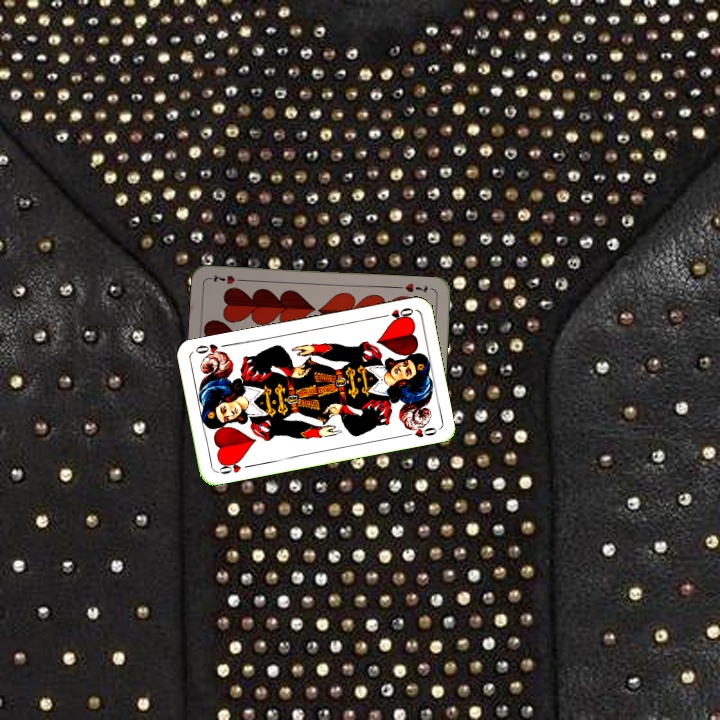H7: (401, 279, 430, 295)
HO: (214, 456, 254, 477), (376, 304, 416, 324)
